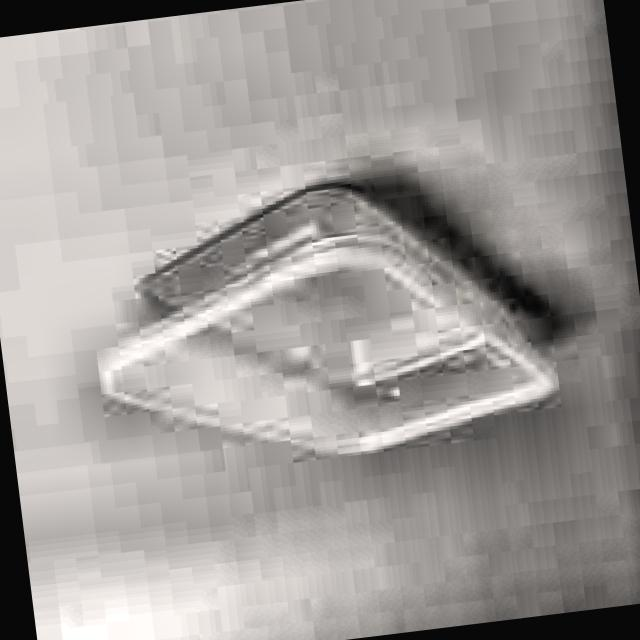plastic container: (99, 186, 556, 453)
